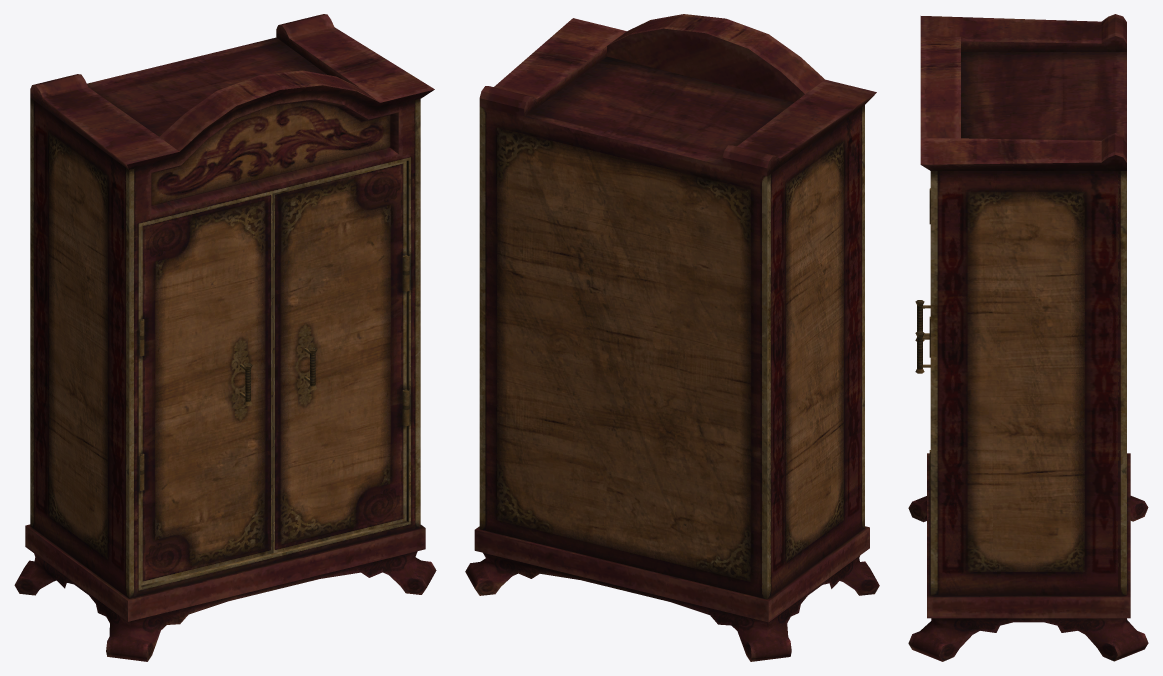
Rendered from cabinet_nice.dae.
3 renders of one model, left to right at view 1: azimuth 30°, elevation 25°; view 2: azimuth 150°, elevation 25°; view 3: azimuth 270°, elevation 25°, orthographic.
Parts seen in each view (by area): view 1: polySurface38, polySurface36, polySurface37; view 2: polySurface38; view 3: polySurface38.
Boxes of the visible parts, x1=… form: polySurface38: x1=14, y1=14, x2=436, y2=661; polySurface36: x1=273, y1=161, x2=406, y2=553; polySurface37: x1=141, y1=193, x2=272, y2=585; polySurface38: x1=465, y1=14, x2=879, y2=661; polySurface38: x1=908, y1=14, x2=1148, y2=661.
Size of the model in its own units: 1.93 by 2.98 by 1.22.
